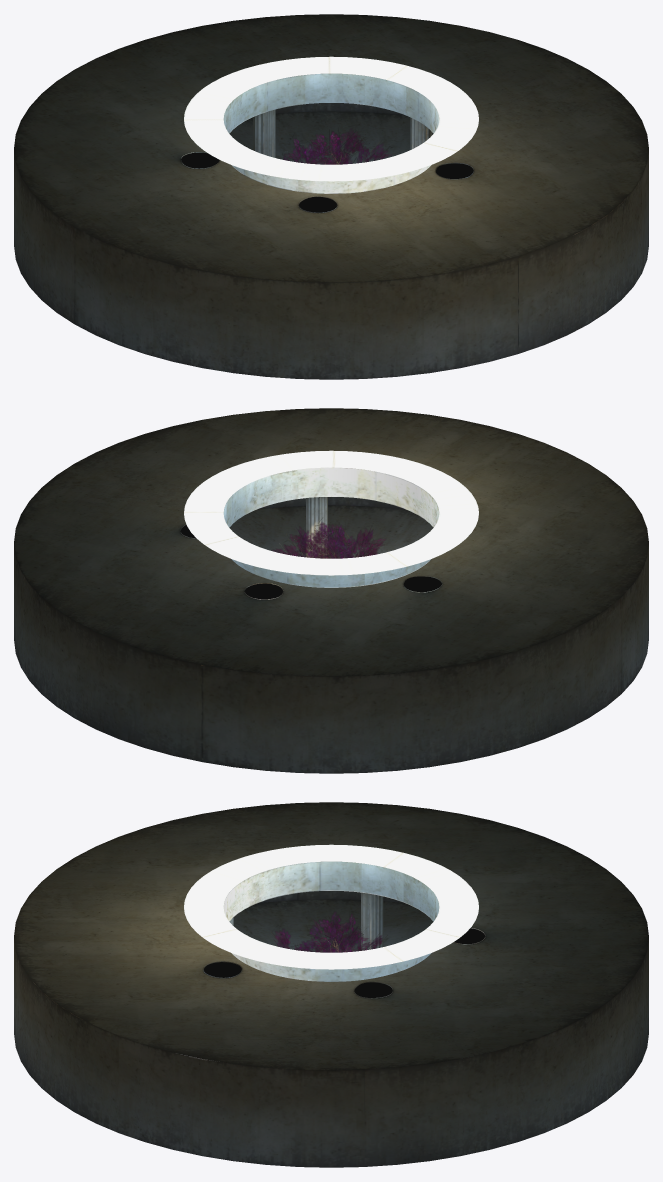
3 renders of one model, top to bottom at view 1: azimuth 30°, elevation 25°; view 2: azimuth 150°, elevation 25°; view 3: azimuth 270°, elevation 25°, orthographic.
Visible parts, largest first — view 1: leaves; view 2: leaves; view 3: leaves.
Boxes of the visible parts, x1,y1,x2,y2 form: leaves: (14, 14, 648, 379); leaves: (14, 408, 648, 773); leaves: (14, 802, 648, 1167).
Bounding box in the file's own units: 14.6 × 3.44 × 14.6.
Materials: 3 (3 with a texture image).
